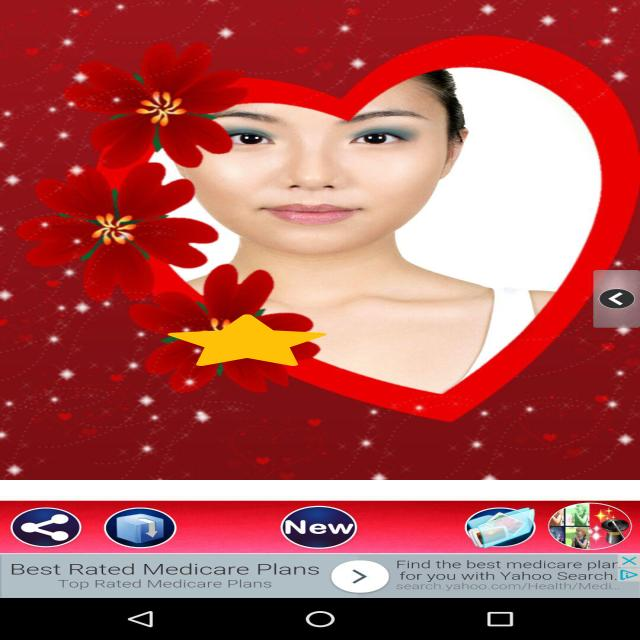forced continuity: (168, 314, 326, 366)
